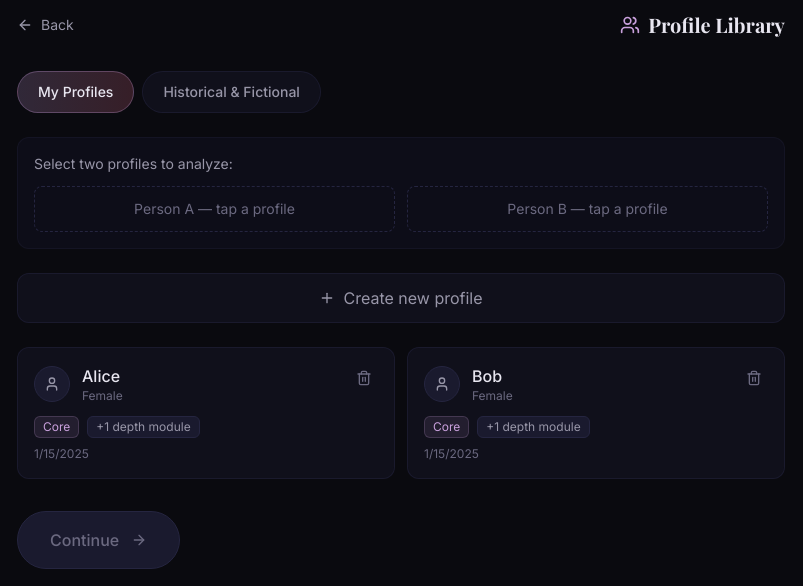
Test: ProfileLibrary › selecting A and B enables Continue
Check: the button "Continue" is disabled, box [17,511,180,569]
// Select Alice (becomes A)
Click the heading "Alice" at (102, 376), box [82,364,123,388]
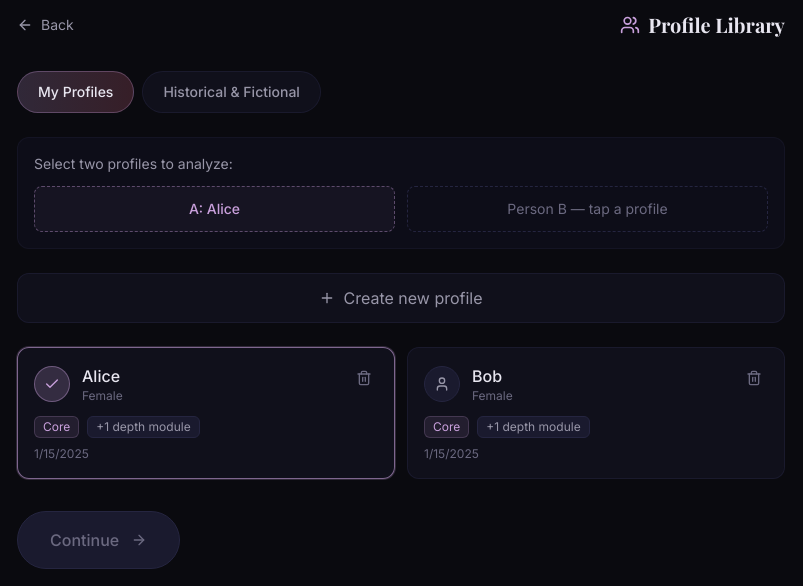
Check: the text "A: Alice" is shown, box [189,200,240,217]
// Select Bob (becomes B)
Click the heading "Bob" at (487, 376), box [472,366,502,386]
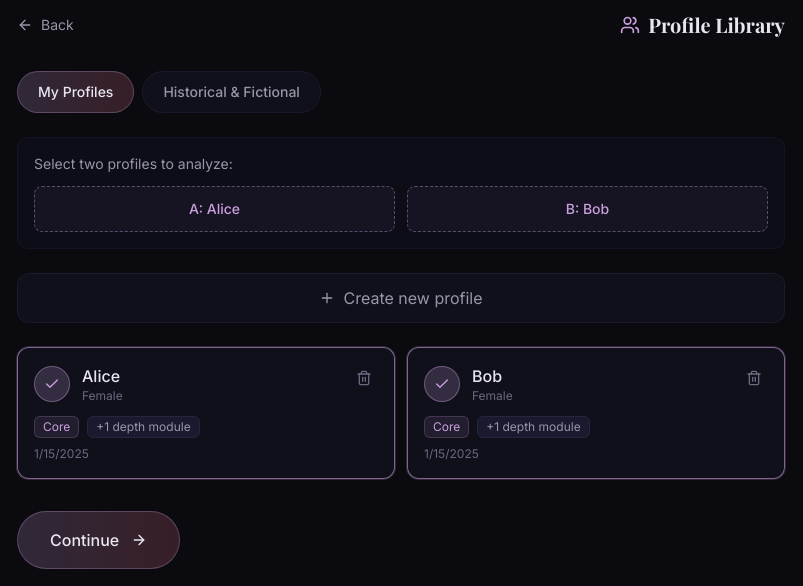
Check: the text "B: Bob" is shown, box [566,200,609,217]
Check: the button "Continue" is enabled, box [17,511,180,569]
